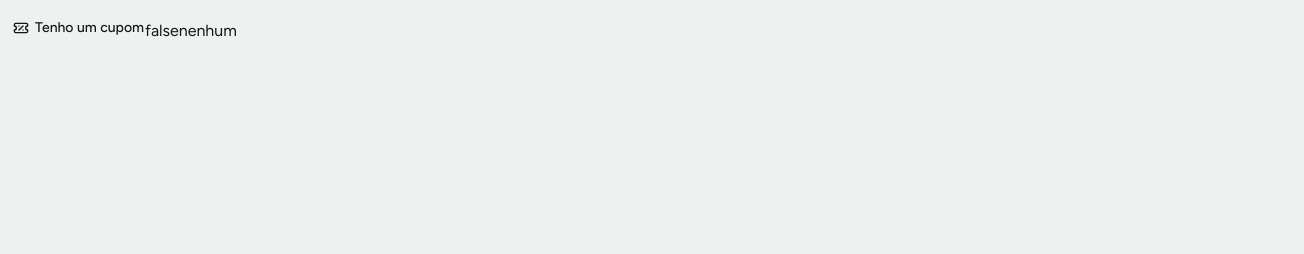
Test: CouponField + useCoupon › aplica o cupom e mostra o desconto e o total que o banco calculou
The width and height of the screenshot is (1304, 254).
Click the button "Tenho um cupom" at (78, 28), box [12,12,145,44]
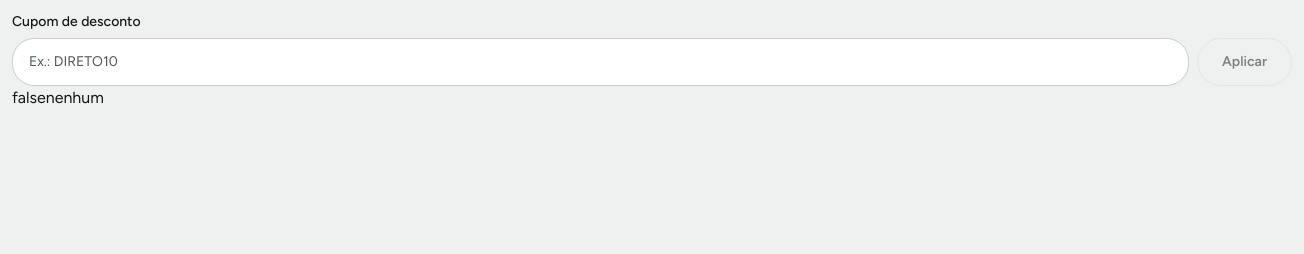
Type "direto10" into the field labelled "Cupom de desconto" at (600, 62), box [29,42,1172,82]
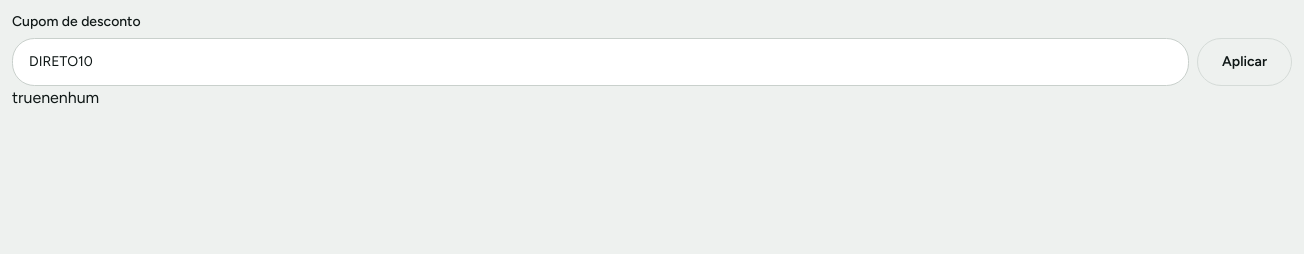
Check: the text with test id "pending" reads "true", box [12,88,41,107]
Click the button "Aplicar" at (1244, 62), box [1197,38,1292,86]
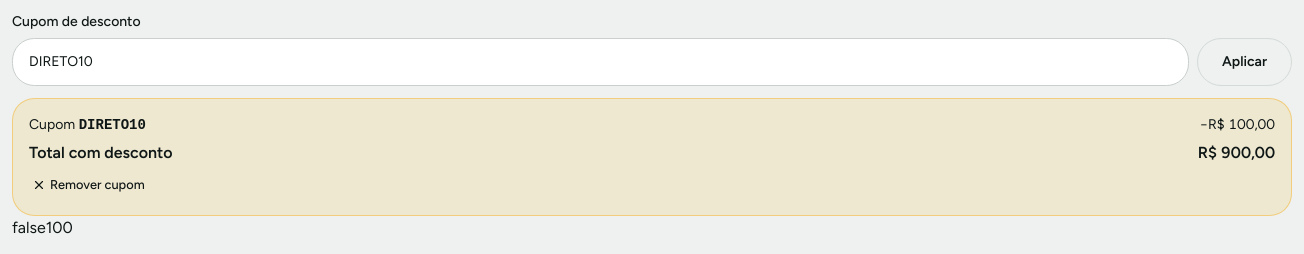
Check: the text "Total com desconto" is shown, box [29,141,173,165]
Check: the text "R$ 900,00" is shown, box [1198,141,1275,165]
Check: the text "−R$ 100,00" is shown, box [1199,115,1275,135]
